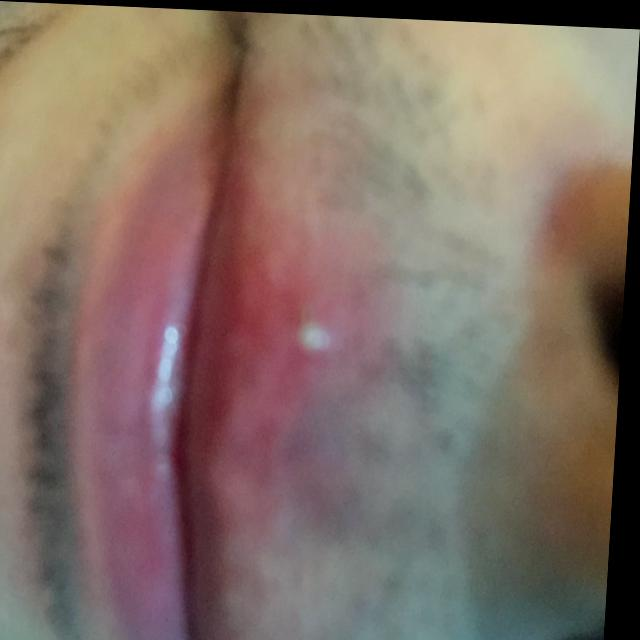blackheads: (283, 301, 346, 362)
